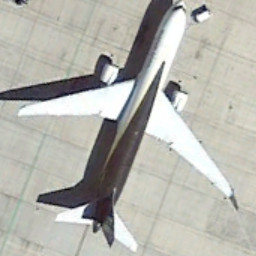Airplane: (8, 1, 252, 250)
